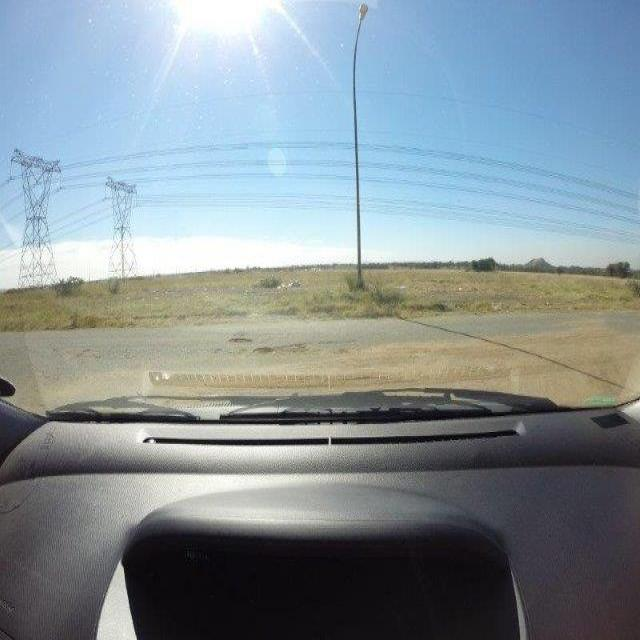lubang: (250, 341, 316, 355), (228, 329, 254, 343)
